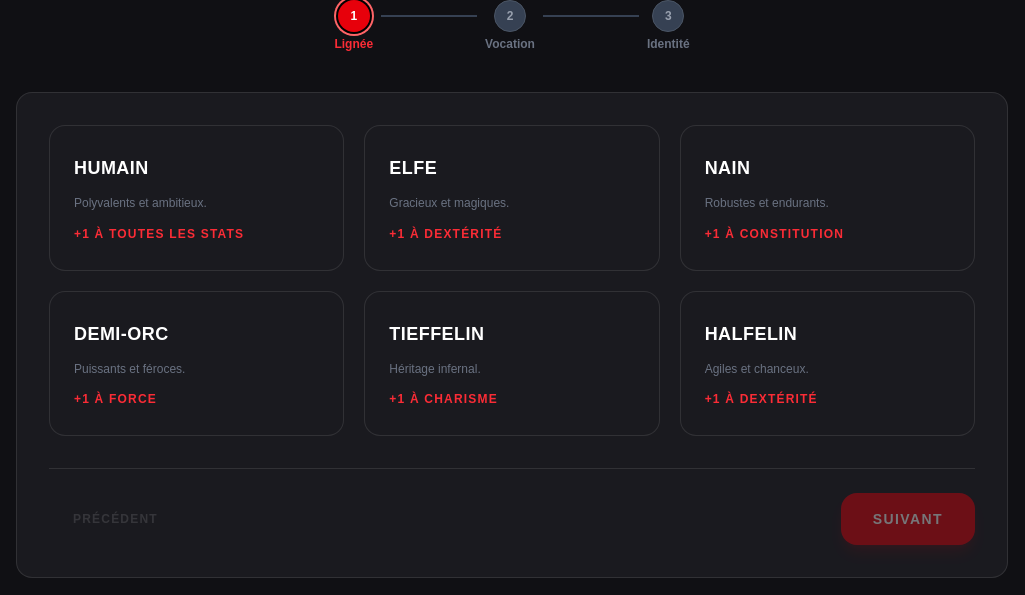
Scenario: CharacterStep › étape 0 — Lignée › le bouton Suivant est activé après sélection d'une race
This screenshot has width=1025, height=595.
Click the text "Elfe". click: {"x": 413, "y": 168}
box: [389,158,437,178]
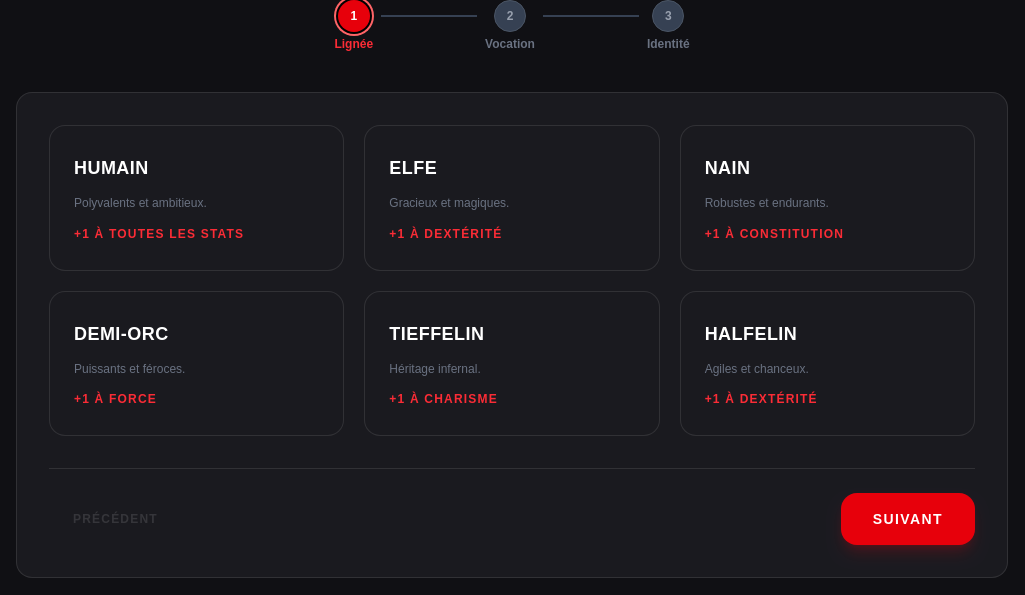
Check: the button "Suivant" is enabled, box [841,493,975,545]
